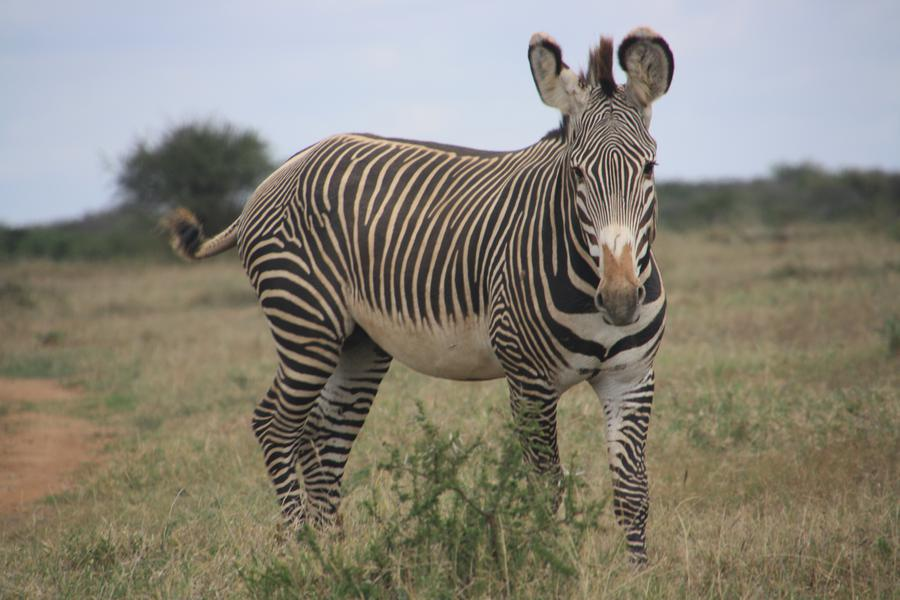zebra_grevys: (239, 120, 590, 373)
